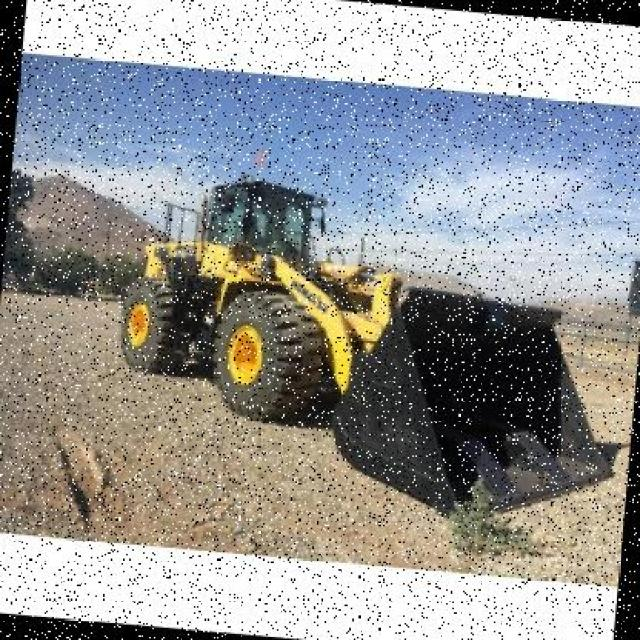buldozerpayloadergrader: (83, 128, 622, 535)
